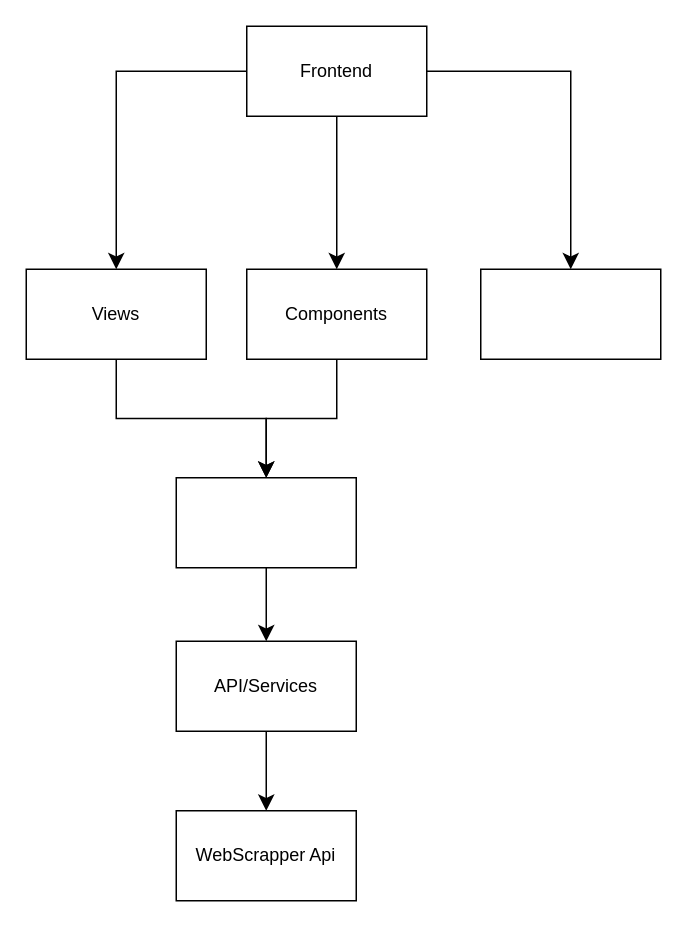
This 687x927 diagram has some shape labels left out. Each missing label, with the centre of its shape:
Pinia Stores: the point at 265,522
Router: the point at 570,313
